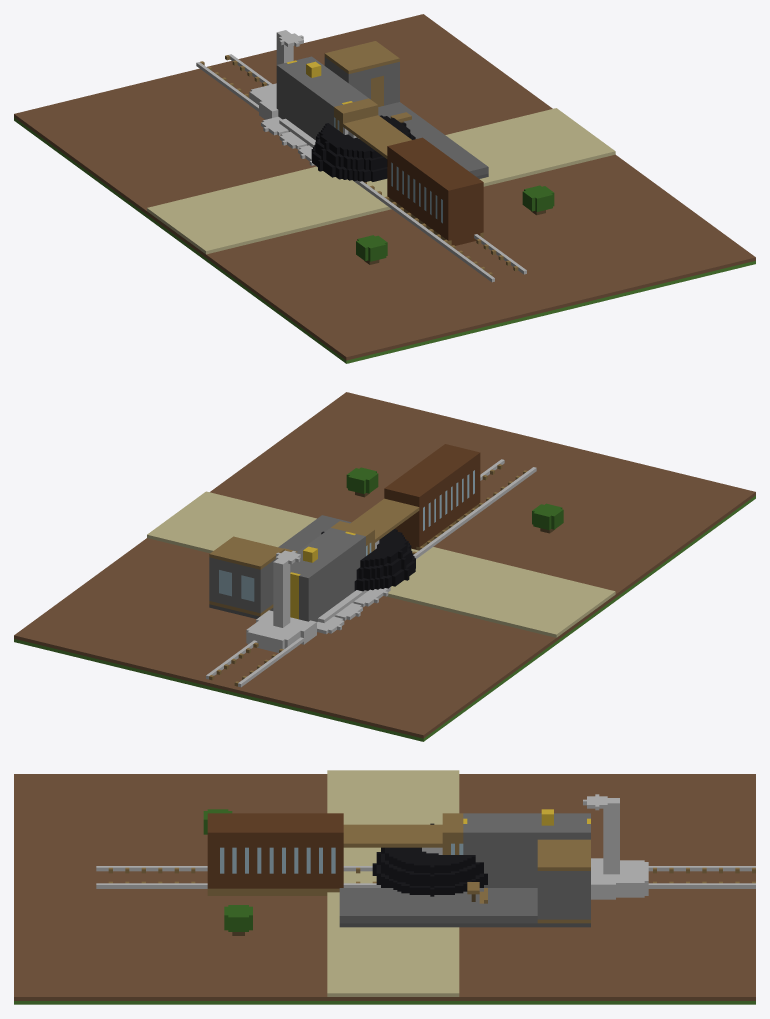
The picture shows the model from 3 angles, top to bottom: view 1: azimuth 30°, elevation 25°; view 2: azimuth 150°, elevation 25°; view 3: azimuth 270°, elevation 25°; orthographic projection. The views are drawn at different scales.
Bounding box in the file's own units: 128 × 25 × 180.
